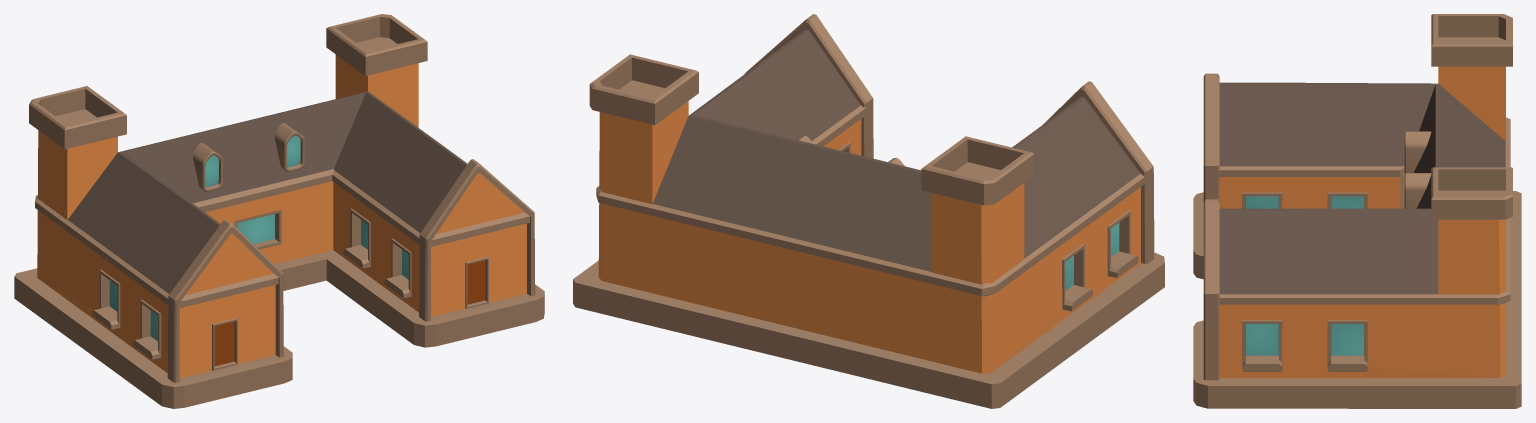
The model's file is SM_House_32.fbx.
The picture shows the model from 3 angles, left to right: view 1: azimuth 30°, elevation 25°; view 2: azimuth 150°, elevation 25°; view 3: azimuth 270°, elevation 25°; orthographic projection. The views are drawn at different scales.
Parts seen in each view (by area): view 1: SM_House_32; view 2: SM_House_32; view 3: SM_House_32.
Part boxes in pixels (x1,y1,x2,y2): SM_House_32: (14,14,544,408); SM_House_32: (573,14,1164,408); SM_House_32: (1193,14,1521,408).
Bounding box in the file's own units: 1686 × 831 × 1202.
